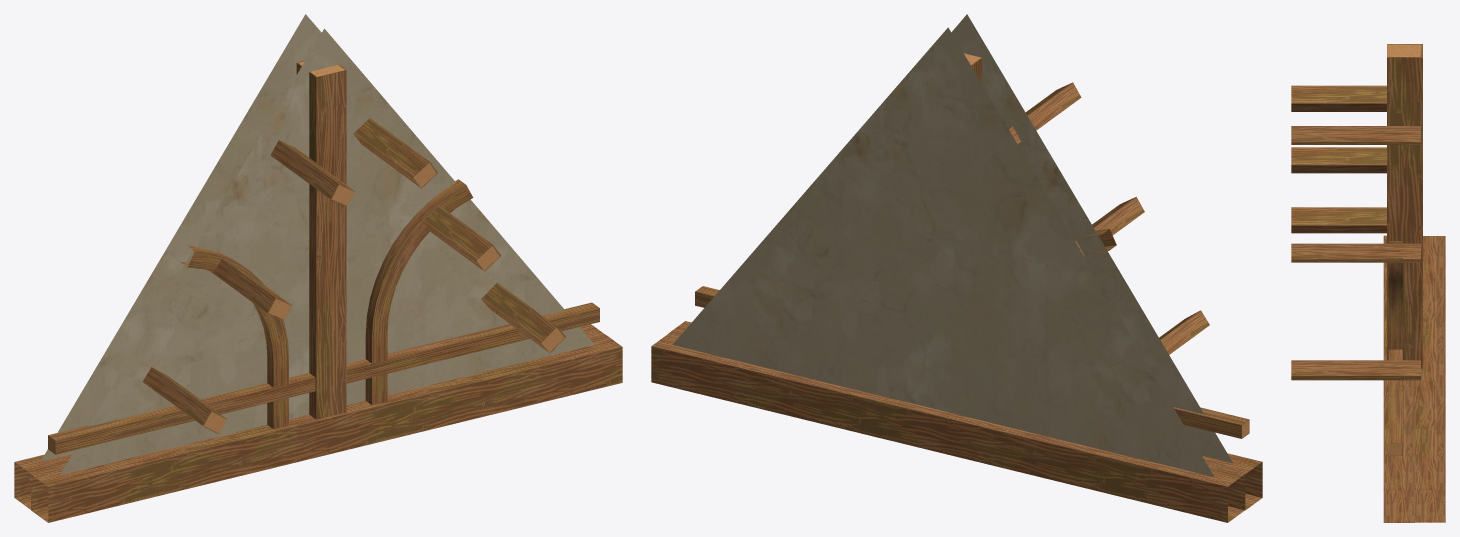
The model's file is roof-qm-rooffrontbrick4.glb.
The picture shows the model from 3 angles, left to right: view 1: azimuth 30°, elevation 25°; view 2: azimuth 150°, elevation 25°; view 3: azimuth 270°, elevation 25°; orthographic projection. The views are drawn at different scales.
Parts seen in each view (by area): view 1: Cube_182; view 2: Cube_182; view 3: Cube_182.
Boxes of the visible parts, x1=… form: Cube_182: x1=14, y1=14, x2=622, y2=522; Cube_182: x1=651, y1=14, x2=1262, y2=522; Cube_182: x1=1291, y1=44, x2=1445, y2=522.
Bounding box in the file's own units: 4.4 × 3.07 × 1.13.
Materials: 2 (2 with a texture image).
